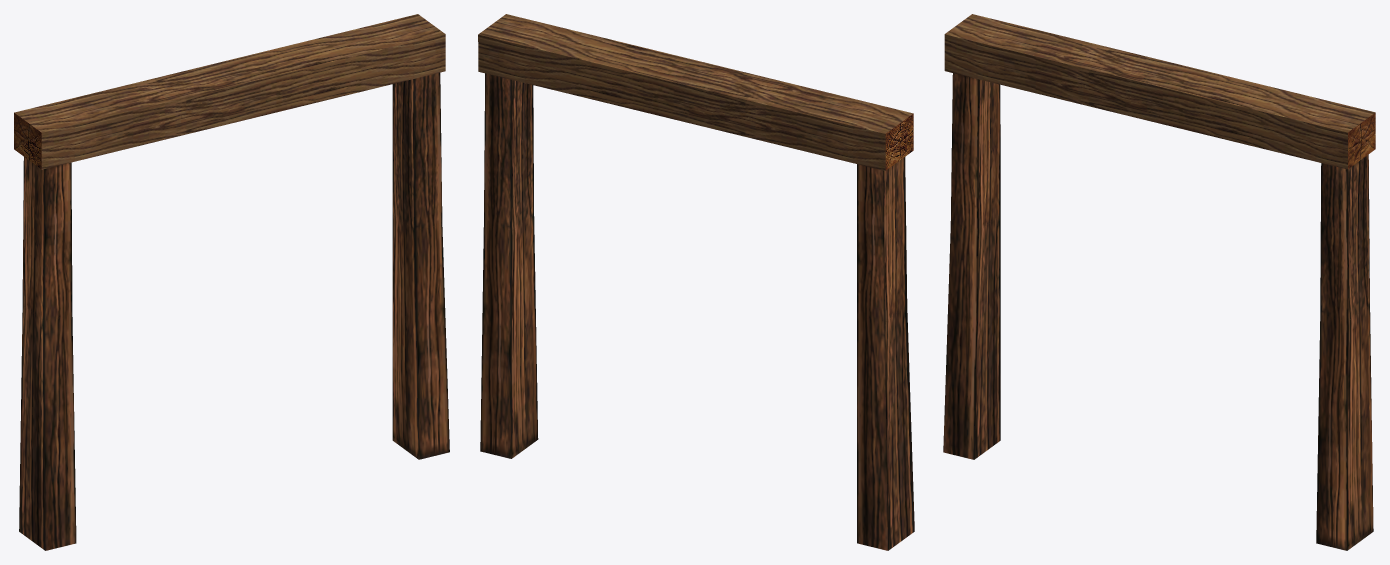
File: LAKETOWN_WAREHOUSE2_PS_WH2_DOORFRAME0039__GX.fbx
3 renders of one model, left to right at view 1: azimuth 30°, elevation 25°; view 2: azimuth 150°, elevation 25°; view 3: azimuth 330°, elevation 25°, orthographic.
Visible parts, largest first — view 1: LAKETOWN_WAREHOUSE2_PS_WH2_DOORFRAME0039__GX; view 2: LAKETOWN_WAREHOUSE2_PS_WH2_DOORFRAME0039__GX; view 3: LAKETOWN_WAREHOUSE2_PS_WH2_DOORFRAME0039__GX.
Part boxes in pixels (x1,y1,x2,y2): LAKETOWN_WAREHOUSE2_PS_WH2_DOORFRAME0039__GX: (14, 14, 449, 550); LAKETOWN_WAREHOUSE2_PS_WH2_DOORFRAME0039__GX: (478, 14, 914, 550); LAKETOWN_WAREHOUSE2_PS_WH2_DOORFRAME0039__GX: (943, 14, 1375, 550).
Bounding box in the file's own units: 34050 × 33420 × 4392.
3 materials, 3 textured.
